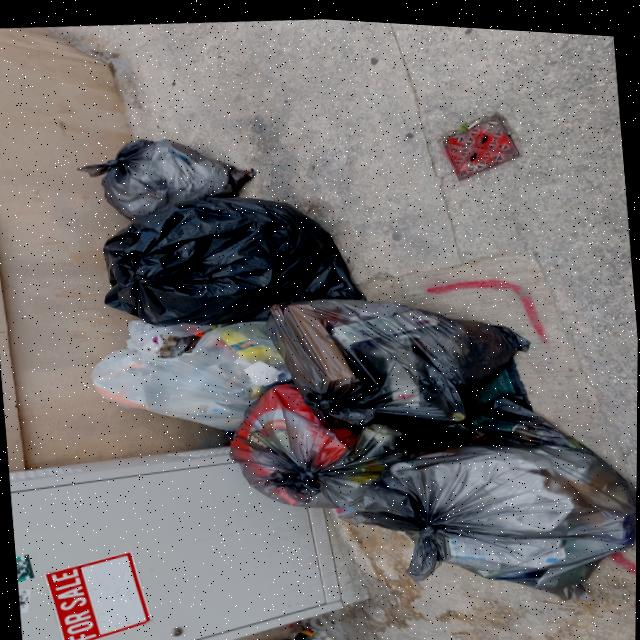Mixed Waste -Black Bag-: (369, 393, 639, 601), (99, 178, 367, 337), (274, 274, 535, 437), (226, 371, 420, 516), (97, 128, 257, 211)
Organic Waste -White Bag-: (85, 304, 286, 440)
